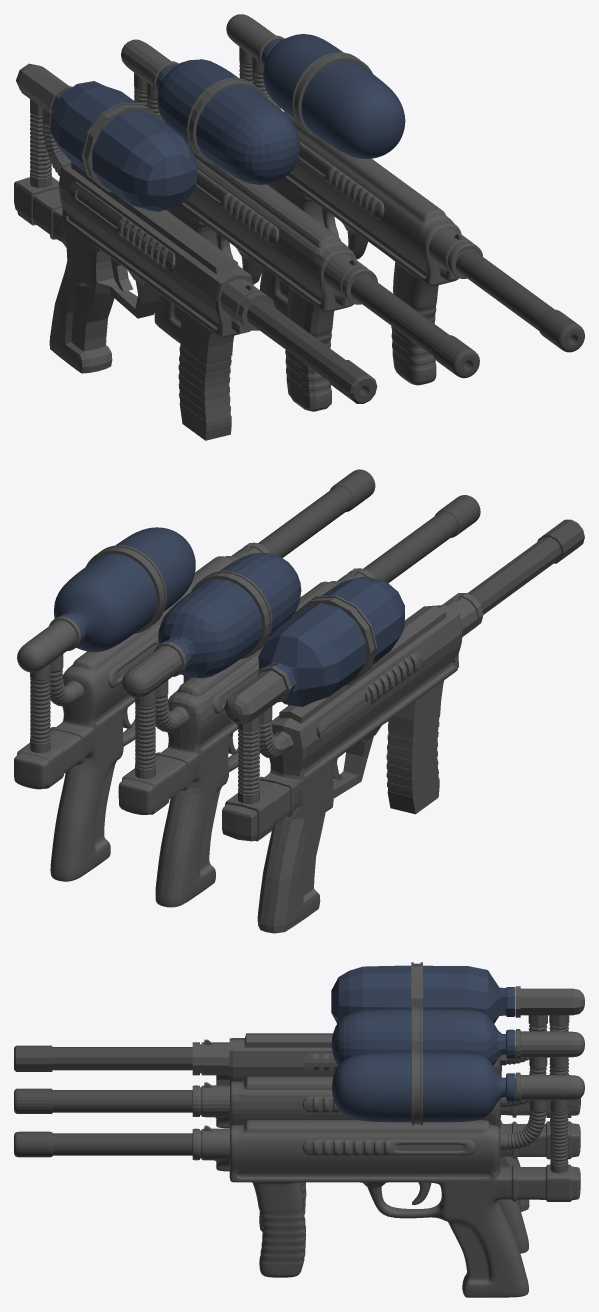
File: PaintballGun.fbx
The picture shows the model from 3 angles, top to bottom: view 1: azimuth 30°, elevation 25°; view 2: azimuth 150°, elevation 25°; view 3: azimuth 270°, elevation 25°; orthographic projection. The views are drawn at different scales.
Visible parts, largest first — view 1: Water Pistol, Water Pistol.002, Water Pistol.001; view 2: Water Pistol, Water Pistol.002, Water Pistol.001; view 3: Water Pistol.002, Water Pistol.001, Water Pistol.
Boxes of the visible parts, x1=… form: Water Pistol: x1=14, y1=63, x2=377, y2=440; Water Pistol.002: x1=226, y1=14, x2=584, y2=385; Water Pistol.001: x1=121, y1=39, x2=479, y2=411; Water Pistol: x1=222, y1=519, x2=584, y2=933; Water Pistol.002: x1=14, y1=469, x2=375, y2=881; Water Pistol.001: x1=118, y1=495, x2=480, y2=907; Water Pistol.002: x1=14, y1=1049, x2=584, y2=1297; Water Pistol.001: x1=14, y1=1006, x2=584, y2=1253; Water Pistol: x1=14, y1=962, x2=584, y2=1211.
Bounding box in the file's own units: 409 × 387 × 831.
